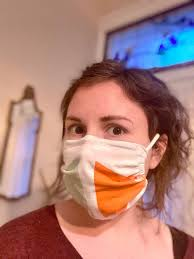FaceMask: (60, 135, 147, 220)
